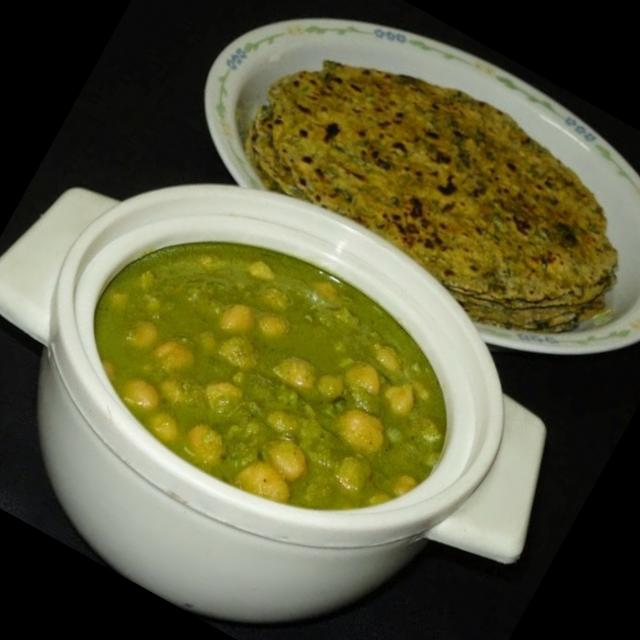Chole: (50, 182, 491, 568)
